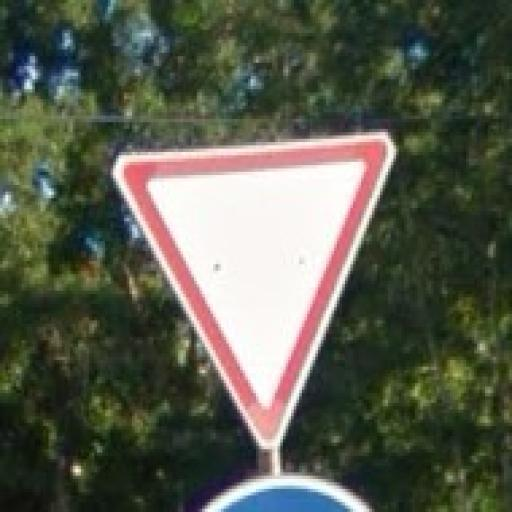traffic_sign: (111, 130, 400, 457)
